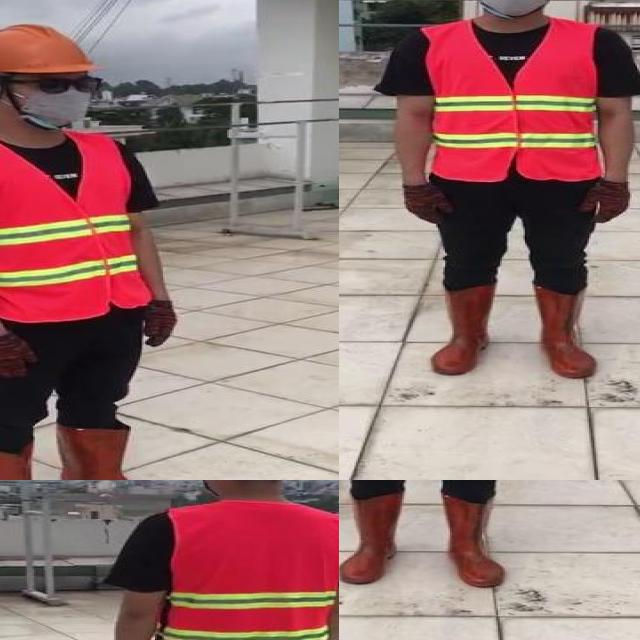boots: (54, 422, 179, 480), (438, 493, 508, 587), (534, 282, 600, 378), (431, 284, 500, 373), (339, 495, 396, 586), (0, 442, 70, 480)
face_mask: (14, 70, 104, 128), (474, 0, 554, 16)
glasses: (23, 70, 106, 98)
hand_glove: (400, 181, 458, 226), (582, 181, 632, 225), (0, 335, 38, 380), (149, 301, 175, 349)
head_helmet: (0, 17, 102, 78)
person: (373, 0, 640, 378), (0, 16, 203, 480), (81, 480, 339, 640), (339, 480, 556, 598)
vest: (422, 18, 600, 183), (0, 132, 152, 320), (157, 503, 339, 640)
